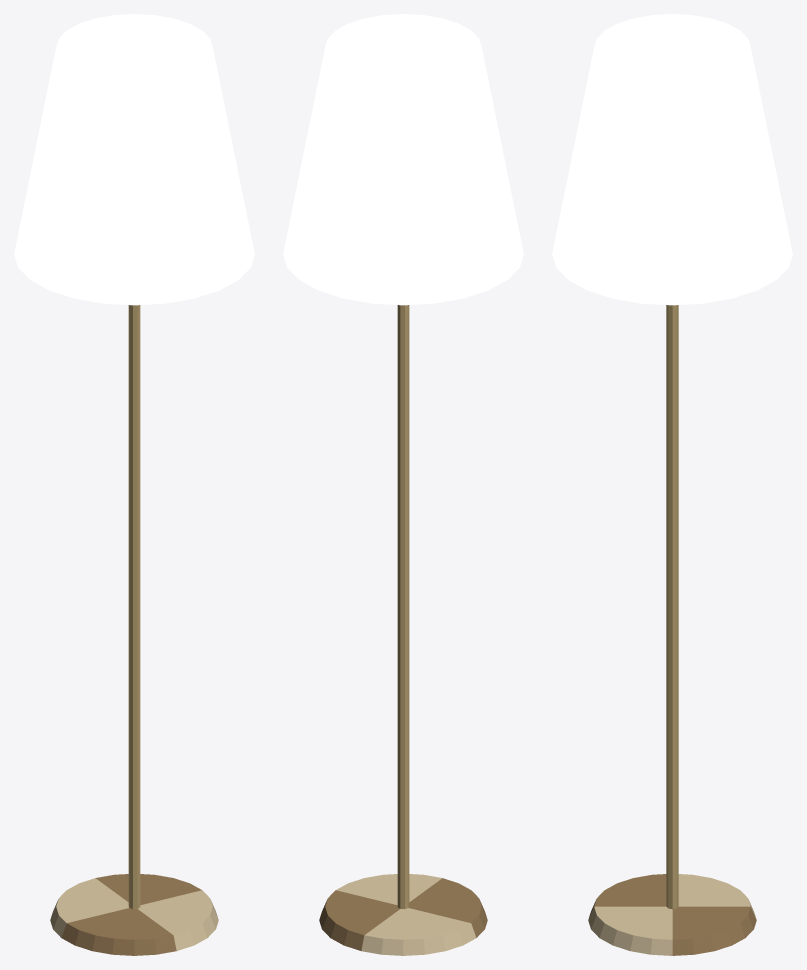
The model's file is lamp.gltf.
The picture shows the model from 3 angles, left to right: view 1: azimuth 30°, elevation 25°; view 2: azimuth 150°, elevation 25°; view 3: azimuth 270°, elevation 25°; orthographic projection.
Parts seen in each view (by area): view 1: model; view 2: model; view 3: model.
Part boxes in pixels (x1,y1,x2,y2): model: [14, 14, 254, 955]; model: [283, 14, 523, 955]; model: [552, 14, 792, 955].
Size of the model in its own units: 0.4 by 1.6 by 0.4.
3 materials, 1 textured.
